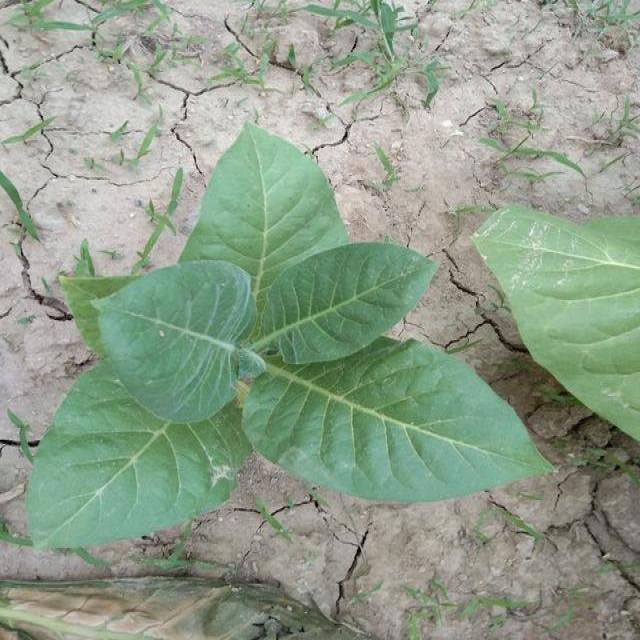crop: (29, 116, 565, 564)
